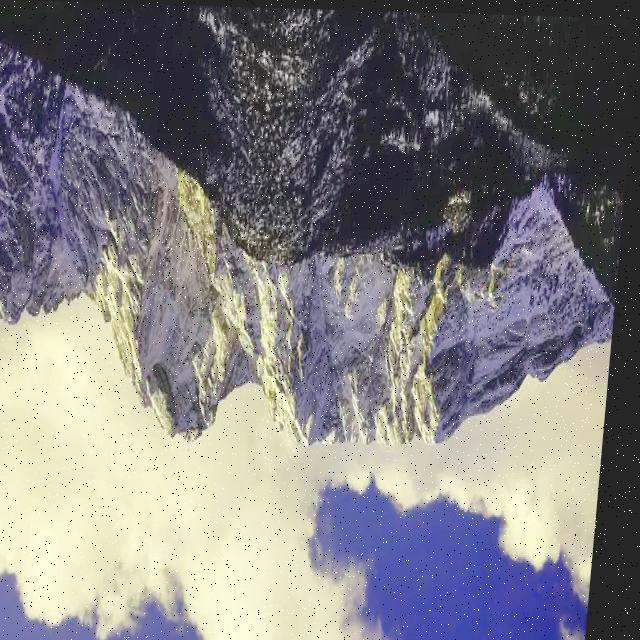Giewont: (96, 313, 279, 561)
Maly giewont: (0, 247, 71, 393)
